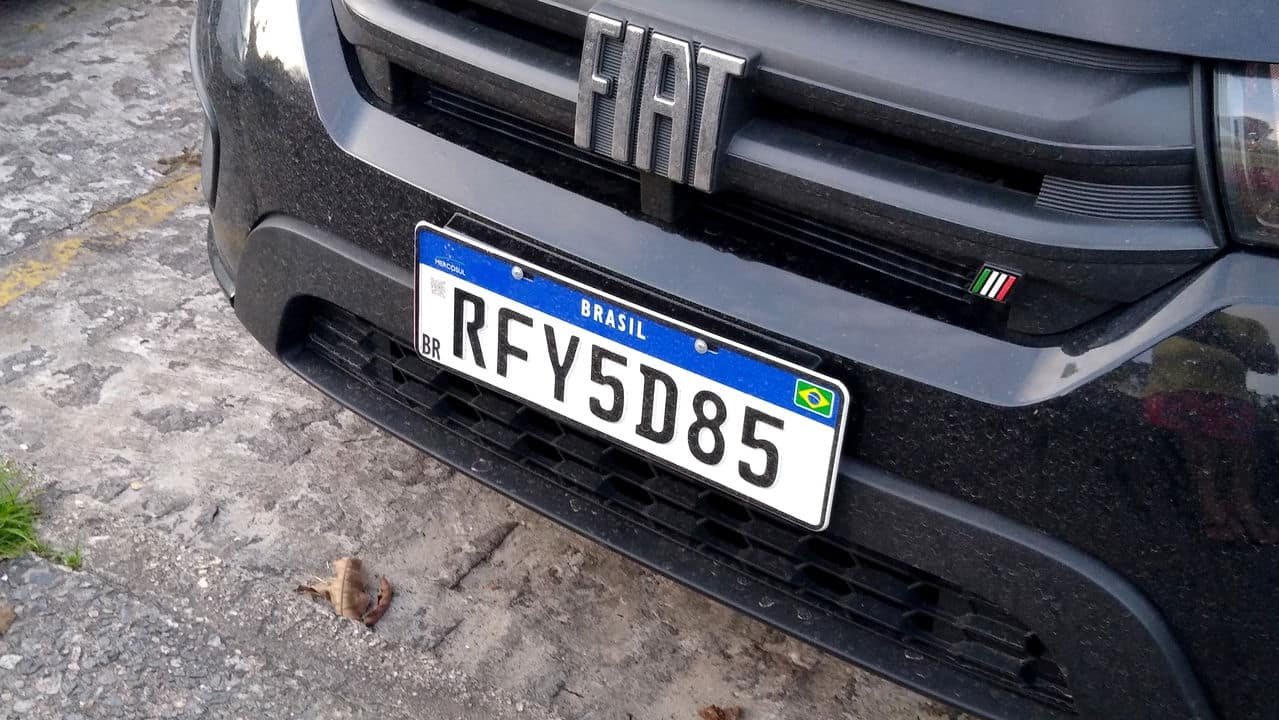car_plate: (413, 215, 912, 364)
